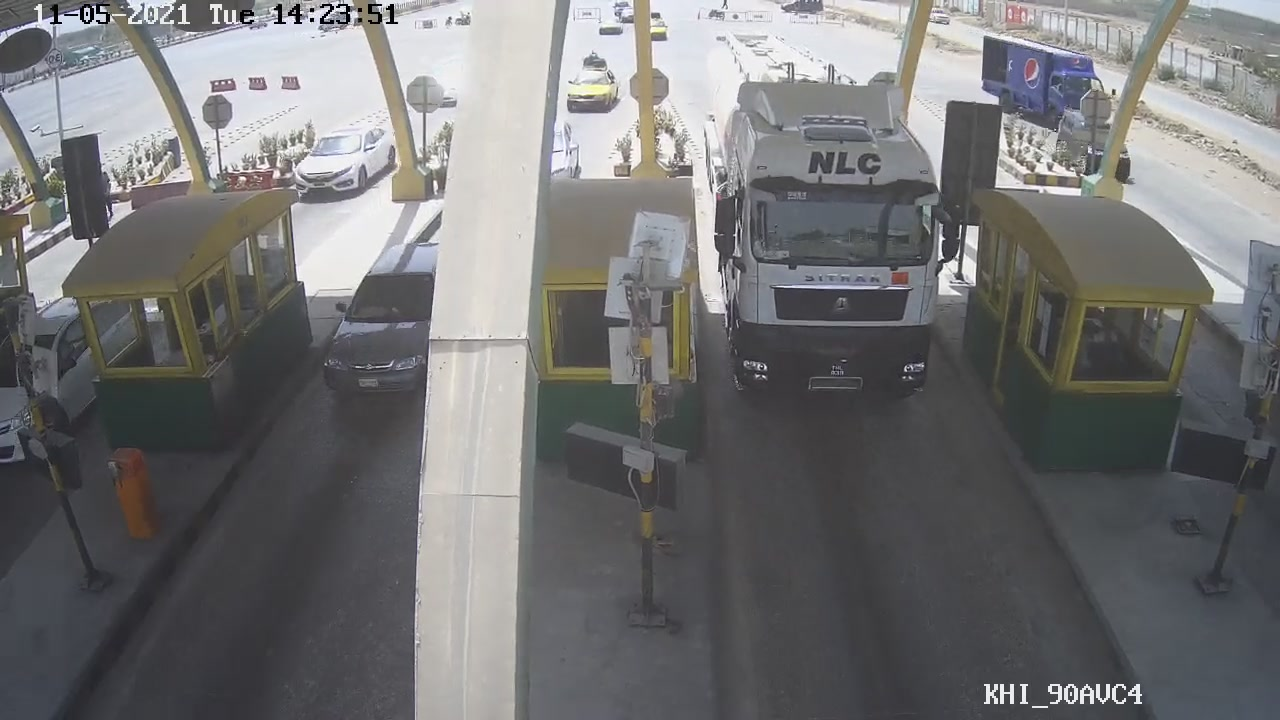F6: (703, 17, 937, 411)
